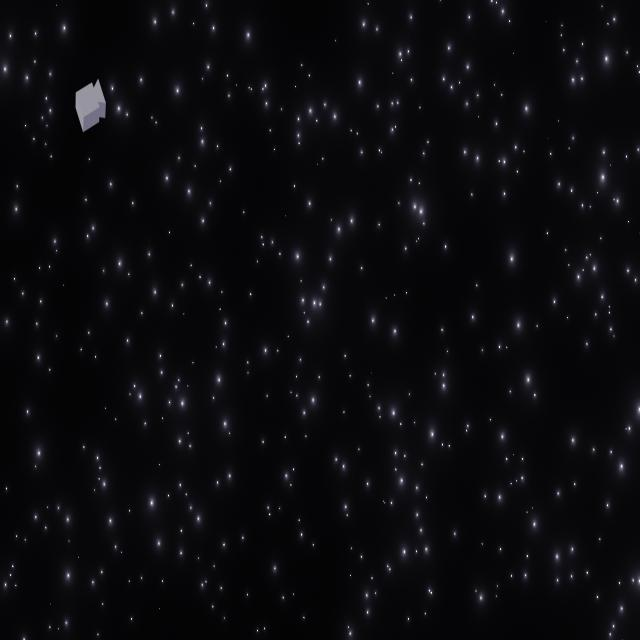large_debris: (73, 80, 112, 136)
